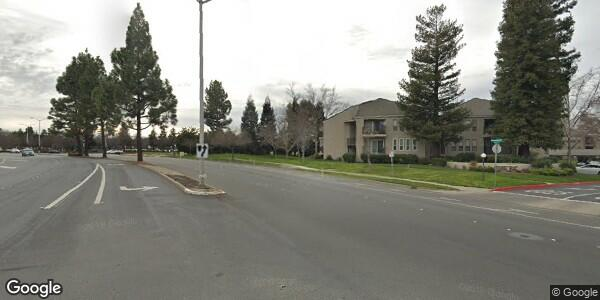Steel_Pole: (192, 1, 210, 187)
